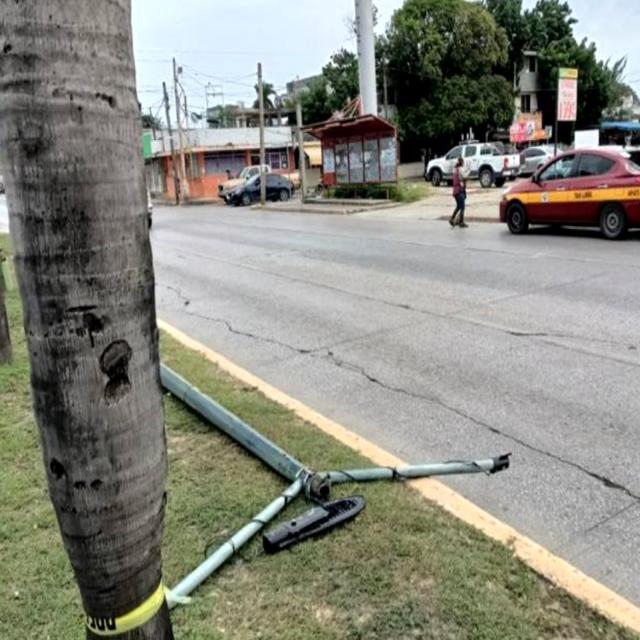Broken Pole: (158, 354, 528, 618)
